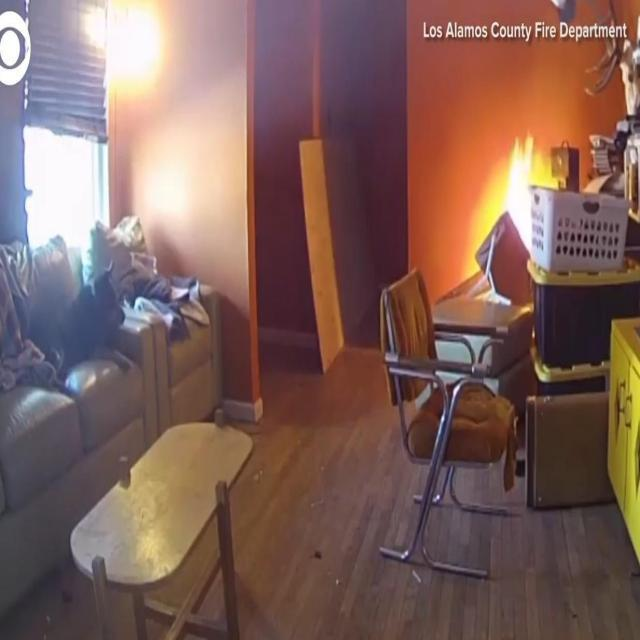smoke: (503, 128, 560, 258)
